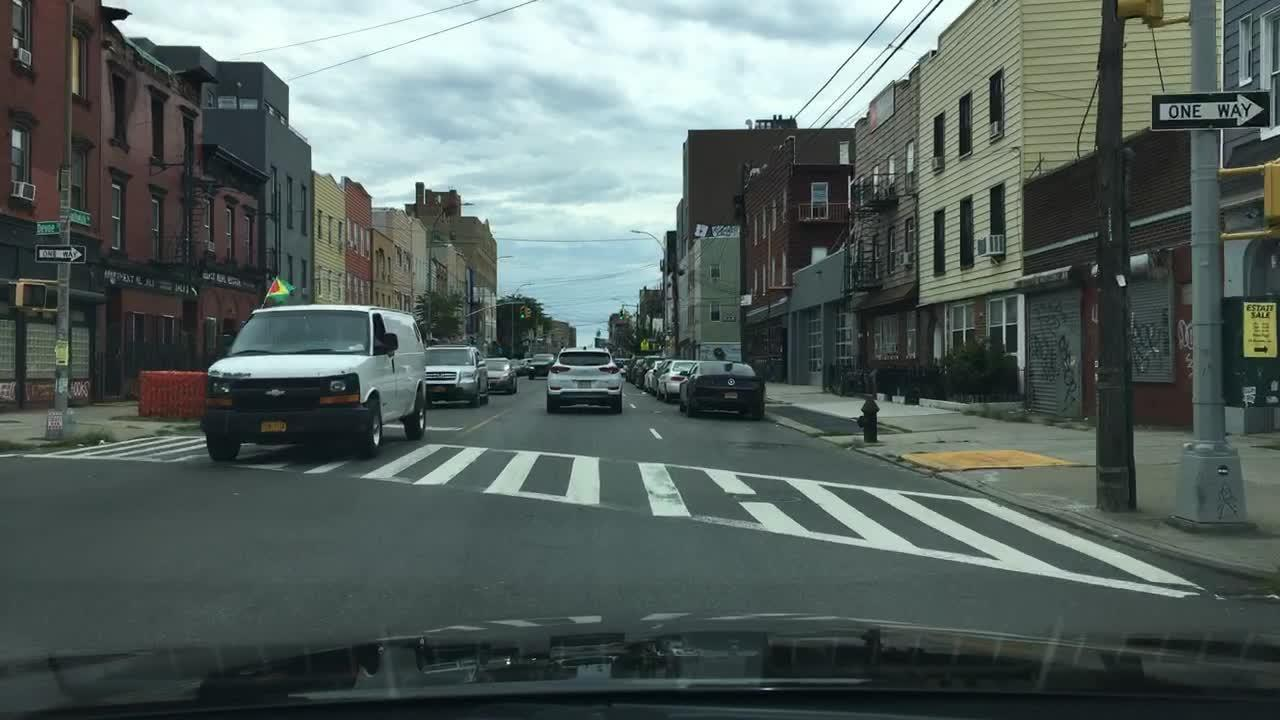chevrolet: (263, 387, 288, 402)
